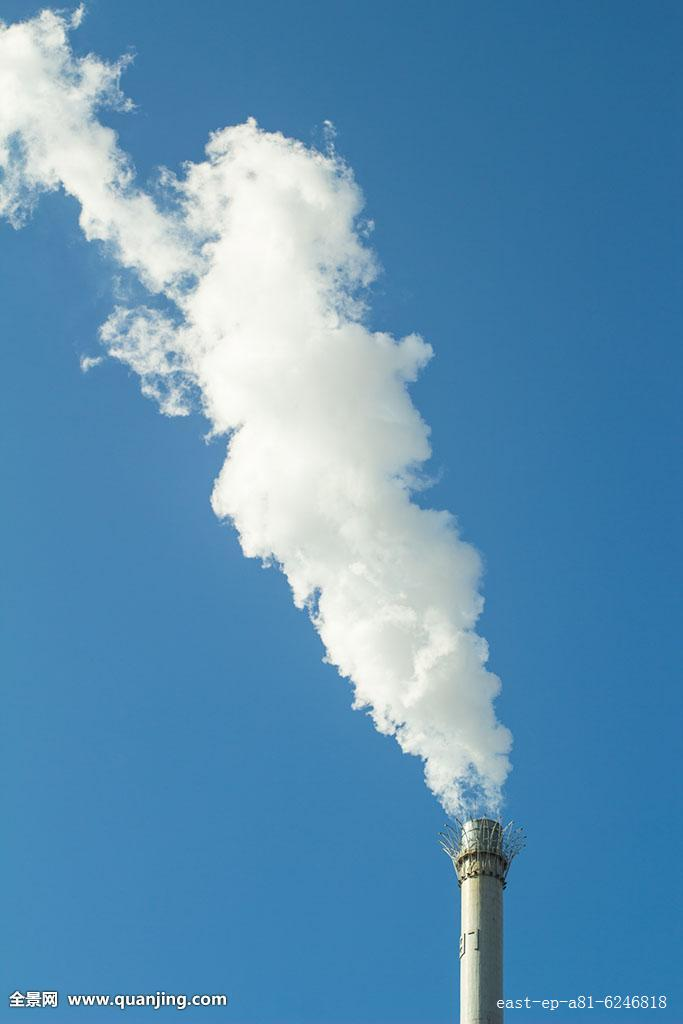dust: (171, 211, 535, 844)
